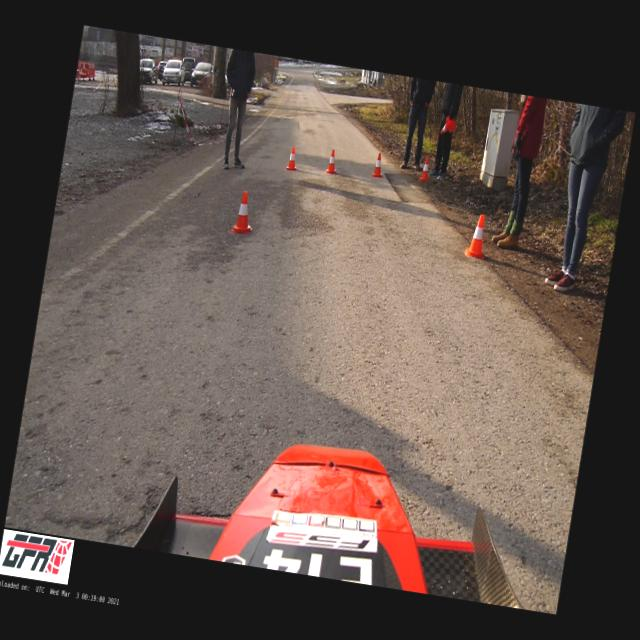orange_cone: (466, 212, 490, 258), (232, 190, 256, 234), (372, 152, 386, 177), (286, 147, 300, 171), (326, 150, 339, 174), (420, 156, 432, 181), (440, 116, 456, 134)
